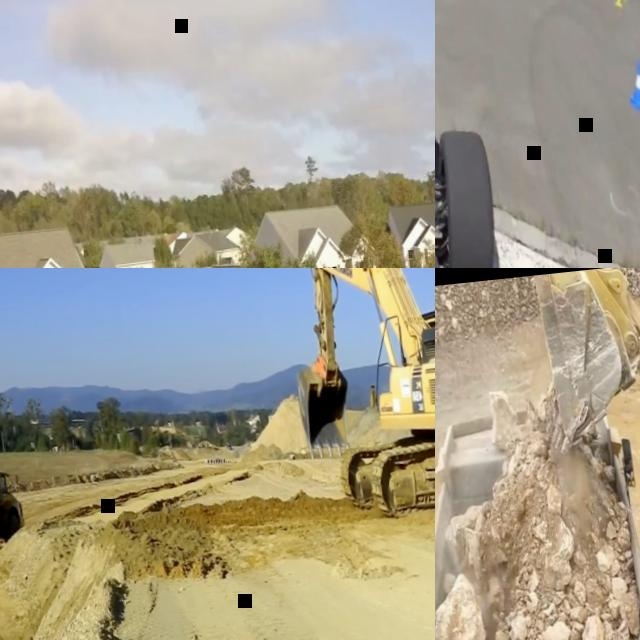Safety Cone: (622, 59, 640, 115), (612, 0, 622, 8)
machinery: (435, 375, 640, 640), (505, 268, 640, 640), (276, 268, 435, 524), (0, 459, 28, 558)
vehicle: (435, 18, 541, 268)
